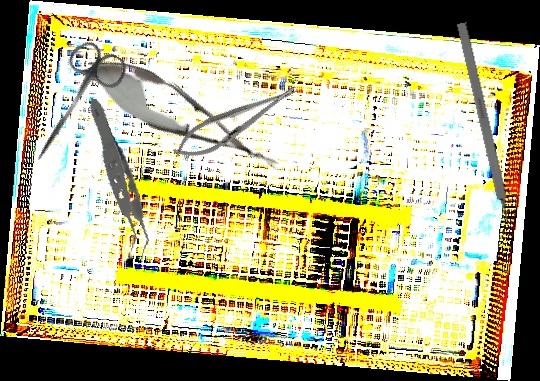Hook Surgical: (455, 22, 517, 239)
Iris Scissors: (15, 35, 132, 176)
Micro Scissor: (75, 41, 290, 190)
Needle Holder: (166, 75, 305, 169)
Tissue Forceps: (55, 97, 178, 266)
